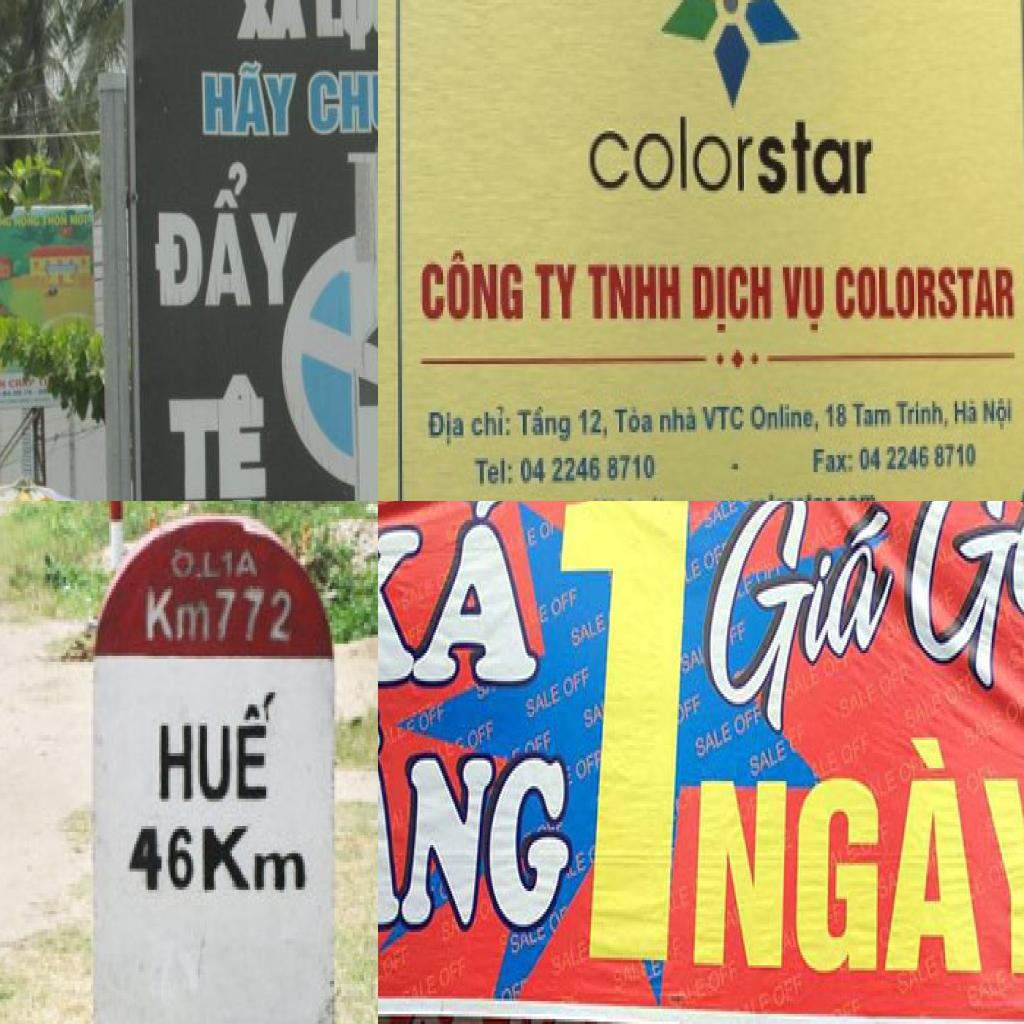text: (689, 724, 1024, 980), (557, 501, 696, 975), (691, 501, 917, 739), (378, 714, 576, 931), (378, 501, 544, 691), (880, 501, 1024, 701), (586, 114, 882, 202), (152, 157, 308, 311), (152, 686, 282, 811), (164, 366, 270, 501), (834, 262, 1019, 327), (198, 817, 312, 899), (199, 56, 302, 142), (416, 248, 527, 324), (584, 262, 685, 324), (688, 264, 774, 336), (125, 820, 200, 899), (519, 450, 660, 490), (303, 65, 378, 140), (214, 586, 300, 650), (858, 441, 980, 478), (143, 586, 214, 647), (779, 264, 830, 336), (230, 0, 311, 44), (312, 0, 378, 54), (533, 259, 580, 324), (748, 401, 822, 438), (515, 404, 574, 449), (964, 965, 1011, 1014), (893, 396, 953, 432), (901, 689, 947, 735), (550, 935, 593, 983), (748, 738, 792, 784), (836, 678, 880, 724), (961, 707, 1005, 753), (170, 546, 223, 583), (568, 607, 610, 653), (522, 678, 564, 724), (782, 660, 824, 706), (695, 717, 736, 763), (424, 407, 468, 449), (610, 955, 651, 999), (470, 404, 514, 444), (771, 968, 809, 1014), (848, 396, 896, 432), (470, 452, 516, 489), (806, 444, 856, 478), (699, 401, 748, 435), (220, 546, 264, 583), (382, 934, 412, 986), (611, 404, 656, 438), (944, 666, 977, 712), (980, 393, 1016, 435), (841, 727, 875, 771), (658, 404, 701, 438), (576, 404, 611, 444), (549, 582, 582, 622), (732, 702, 765, 742), (707, 958, 740, 998), (562, 663, 594, 704), (439, 950, 467, 996), (575, 745, 604, 789), (418, 699, 448, 738), (948, 396, 982, 430), (678, 640, 704, 681), (467, 720, 496, 756), (822, 398, 850, 435), (1003, 684, 1024, 730), (702, 540, 726, 579), (1006, 625, 1024, 676), (588, 492, 686, 501), (582, 699, 606, 735), (727, 615, 749, 653), (718, 501, 741, 525), (694, 970, 710, 1004), (574, 848, 590, 878), (689, 556, 704, 586), (424, 970, 439, 998), (526, 525, 540, 553), (537, 602, 551, 630), (509, 932, 522, 960), (739, 501, 771, 512), (728, 461, 742, 475)
